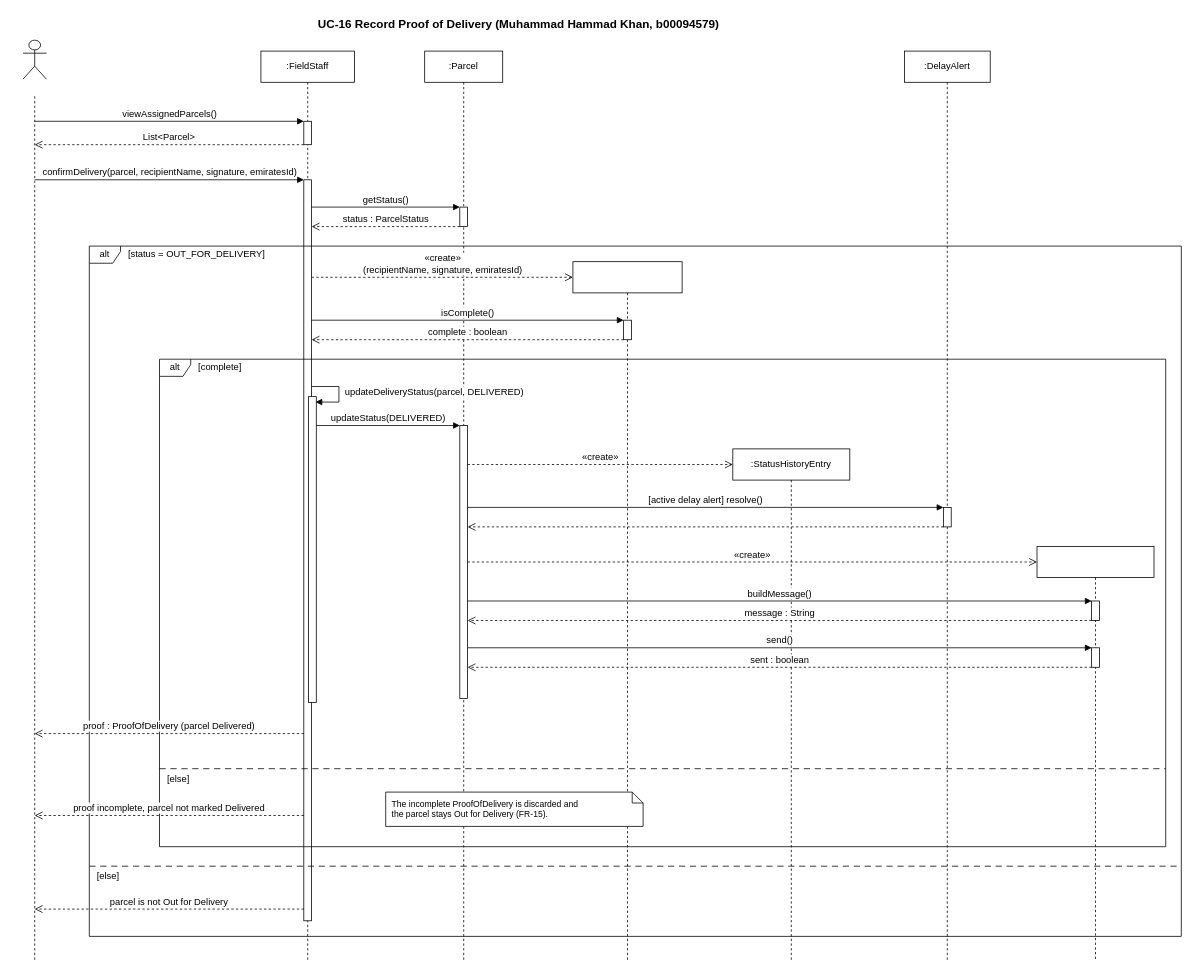
This 1196x974 diagram has some shape labels left out. Each missing label, with the box of its shape:
:ProofOfDelivery: (572, 261, 682, 960)
:StatusNotification: (1036, 546, 1154, 960)
Field Staff: (22, 39, 46, 79)
